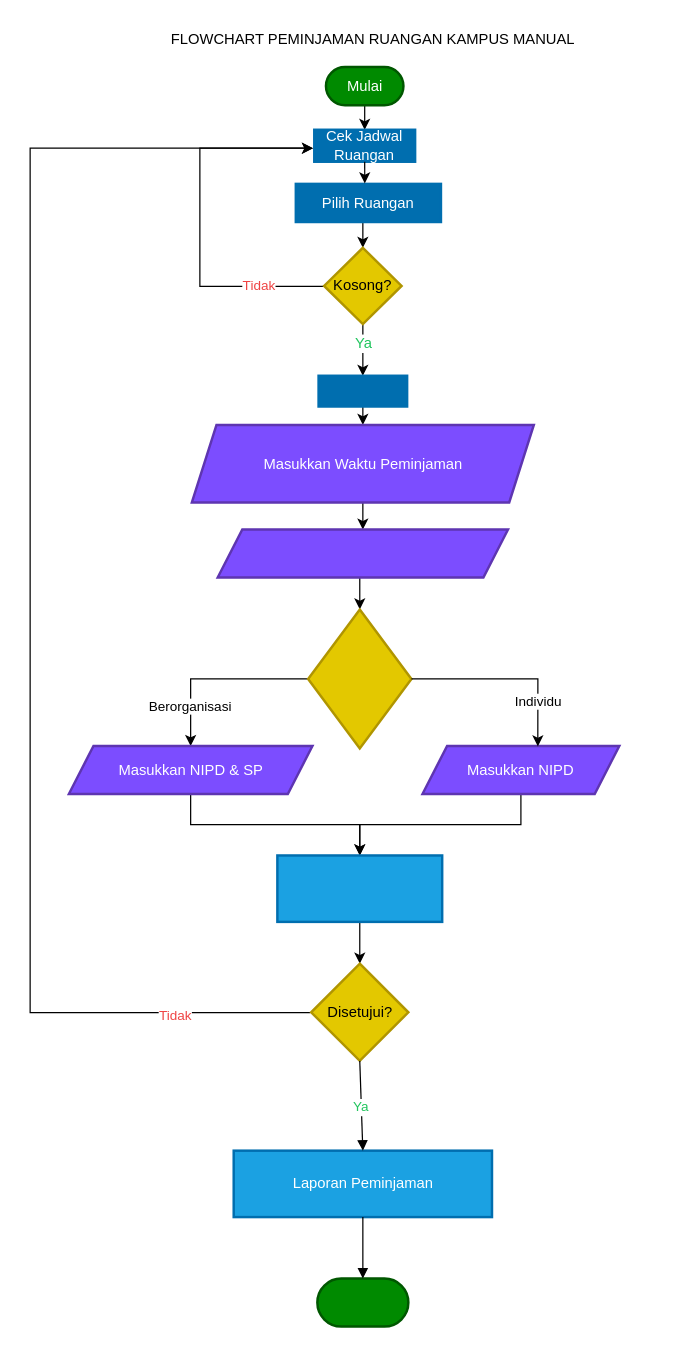
This 696x1348 diagram has some shape labels left out. Each missing label, with the centre of its shape:
"Ajukan Peminjaman" belongs at [362,390].
"Jenis Peminjaman?" belongs at [359,678].
"Masukkan Data Peminjam" belongs at [362,553].
"Pengajuan" belongs at [359,888].
"Selesai" belongs at [362,1302].
